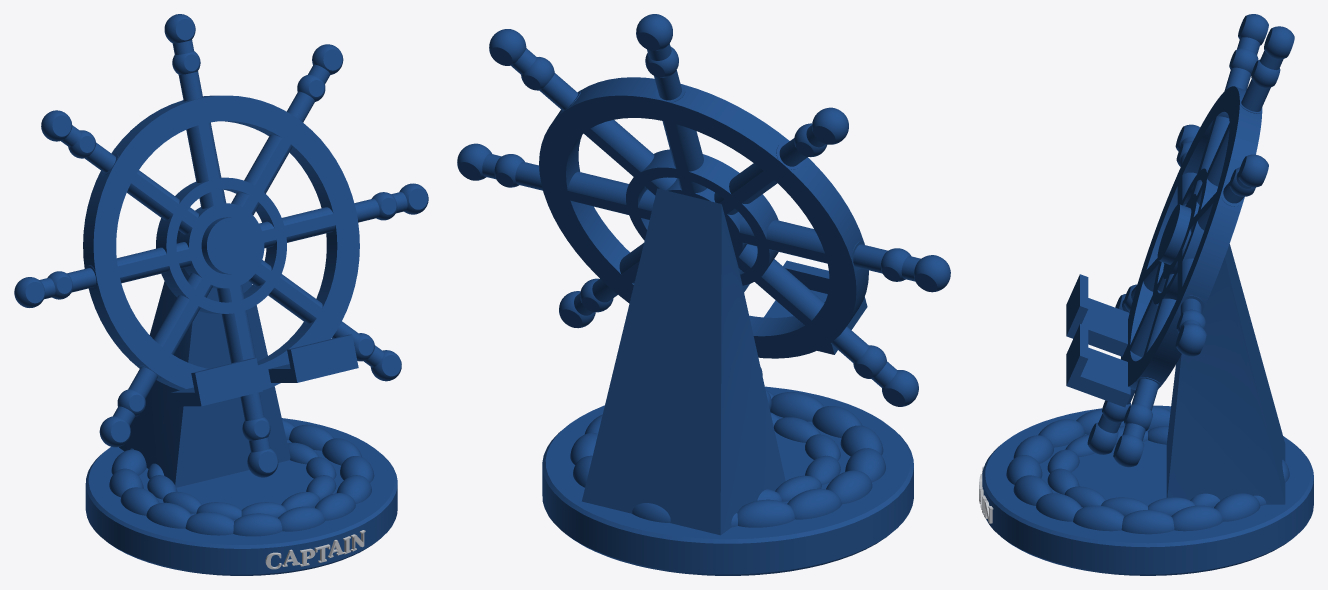
File: captain_phone_stand.glb
The picture shows the model from 3 angles, left to right: view 1: azimuth 30°, elevation 25°; view 2: azimuth 150°, elevation 25°; view 3: azimuth 270°, elevation 25°; orthographic projection. The views are drawn at different scales.
Parts seen in each view (by area): view 1: captain_phone_stand (×2); view 2: captain_phone_stand; view 3: captain_phone_stand.
Boxes of the visible parts, x1,y1,x2,y2 form: captain_phone_stand (×2): (14, 14, 428, 575); captain_phone_stand: (457, 14, 950, 575); captain_phone_stand: (982, 14, 1313, 575).
Bounding box in the file's own units: 0.167 × 0.1753 × 0.111.
